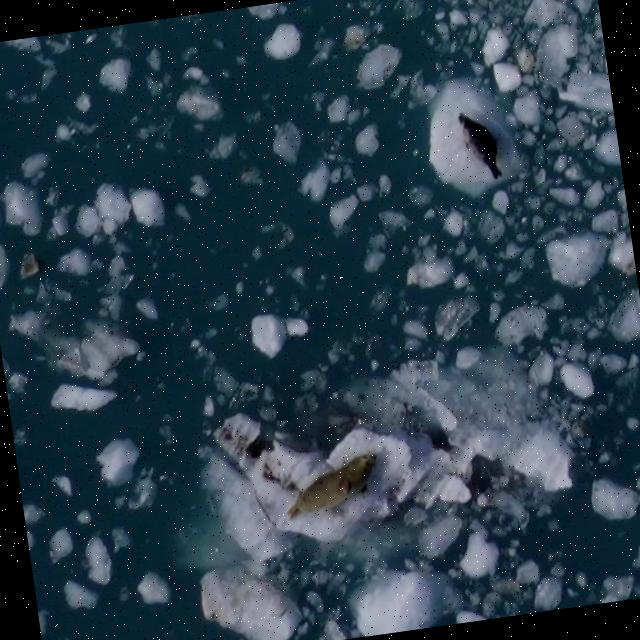seal: (286, 453, 375, 521), (457, 114, 501, 178)
